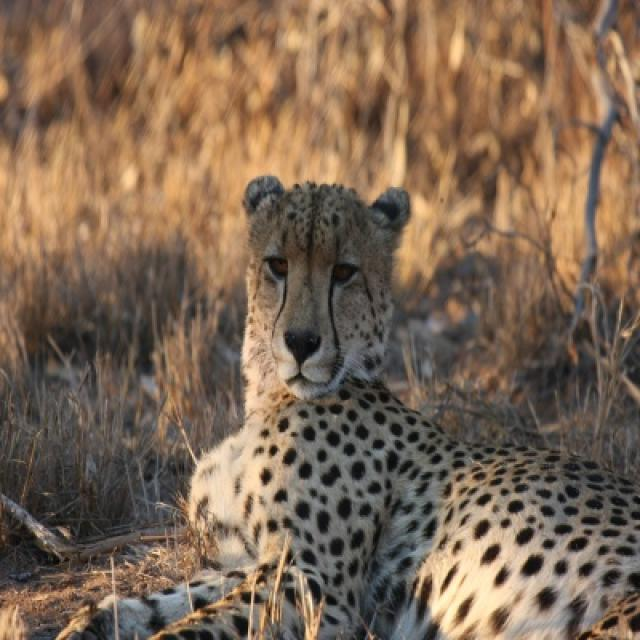Cheetah: (67, 177, 638, 638)
